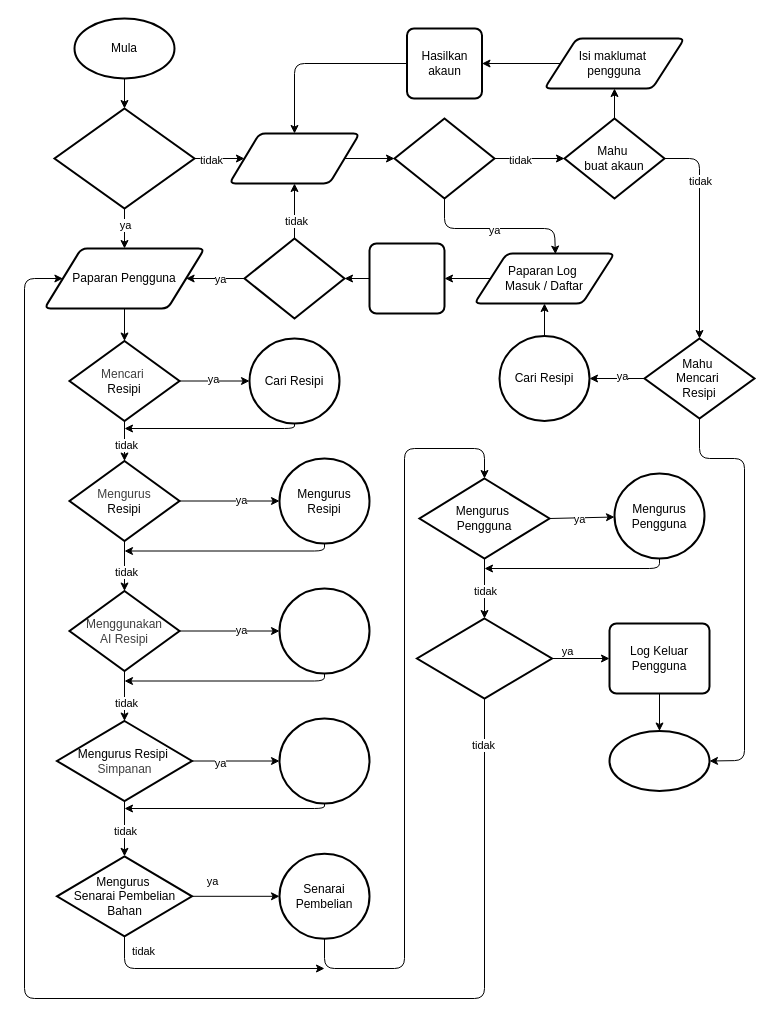
The diagram is 773 pixels wide and 1024 high, and some of its shapes have lost their labels. The centre of each missing label's shape, as x and y in pixels:
AI Resipi: point (324, 630)
Infomasi sah: point (294, 278)
Log Keluar: point (484, 658)
Mahu Log Masuk: point (444, 158)
Paparan Utama: point (294, 158)
Resipi Simpanan: point (324, 760)
Sahkan Info Pengguna: point (406, 278)
Tamat: point (659, 761)
Telah Log Masuk: point (124, 158)
